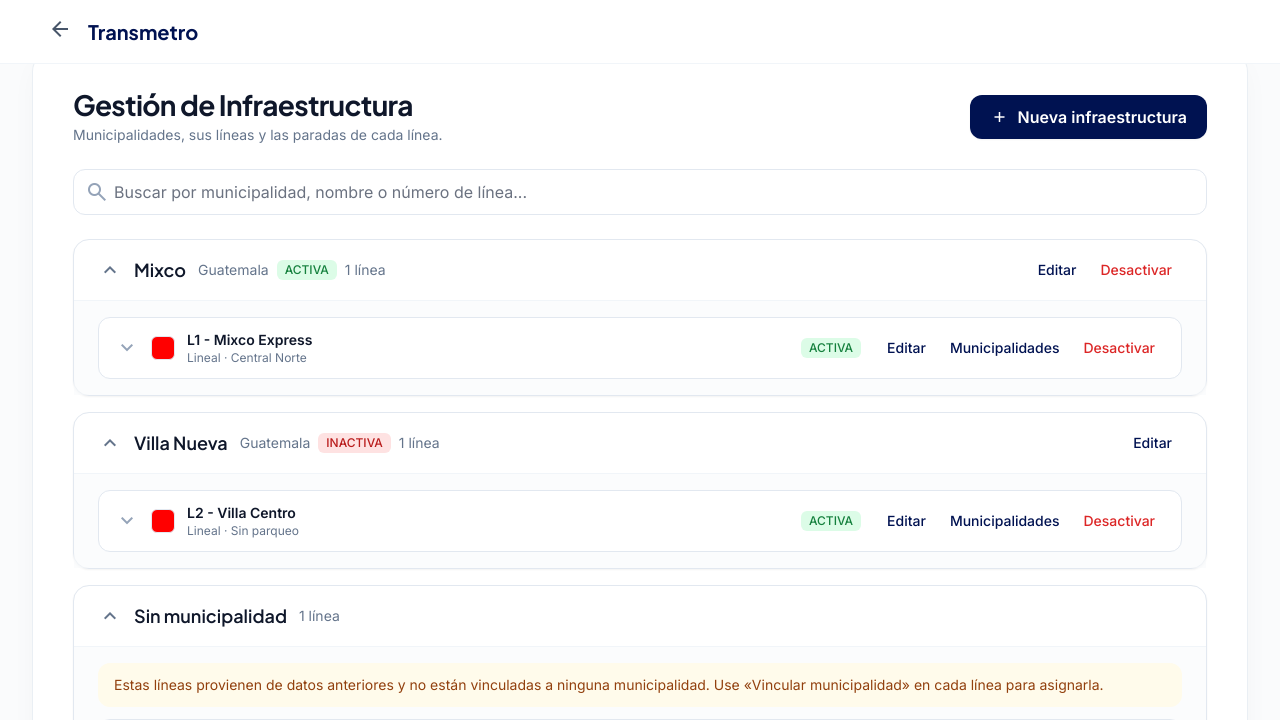
InfrastructurePage grouped view › collapses and expands a municipalidad card
Click the button "Mixco".
click(142, 270)  # box [98,256,186,284]
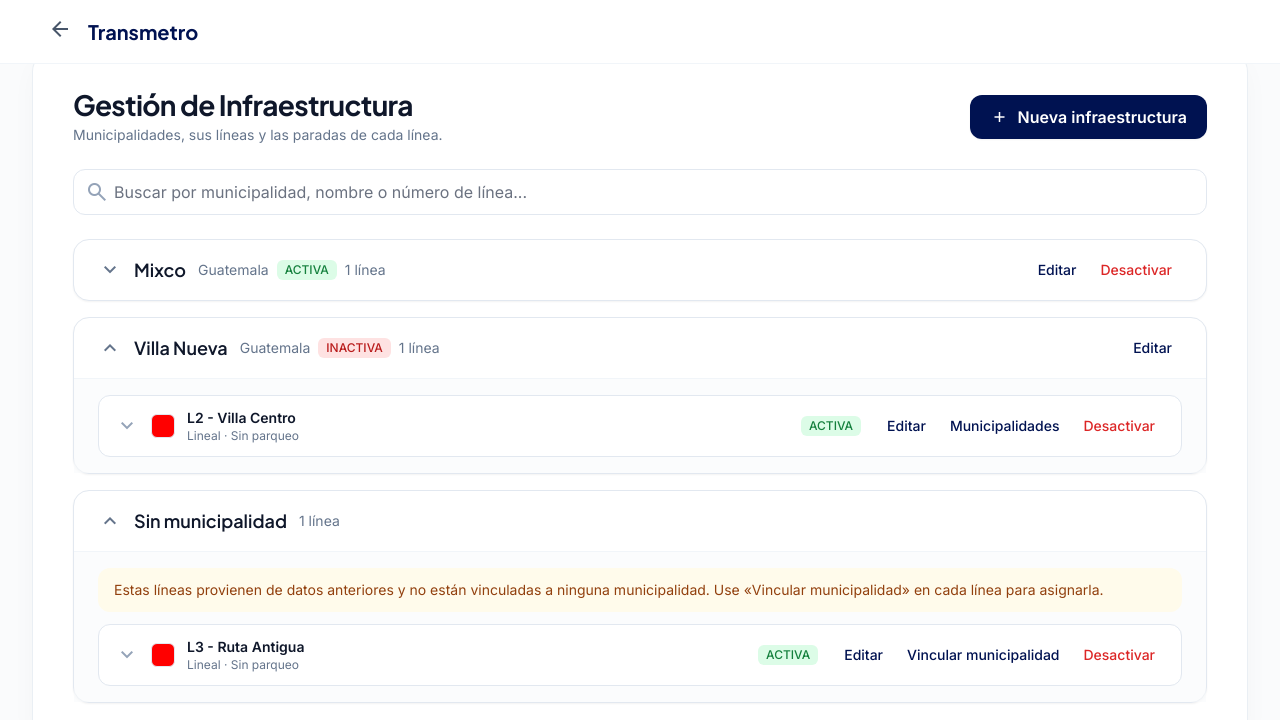
Check: the button "Mixco" is collapsed, box [98,256,186,284]
